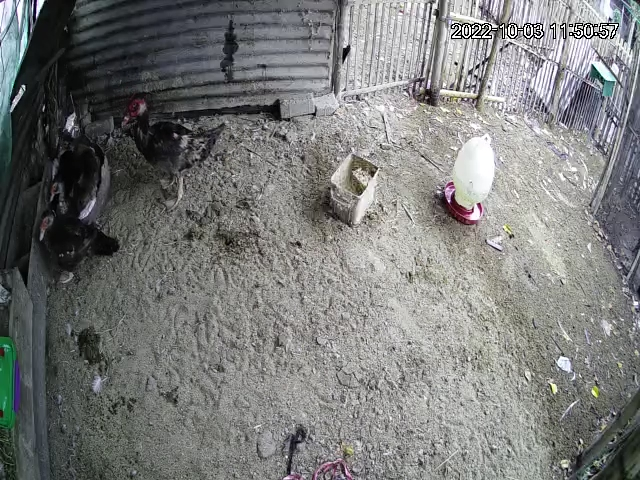Mengeram: (28, 98, 124, 284)
